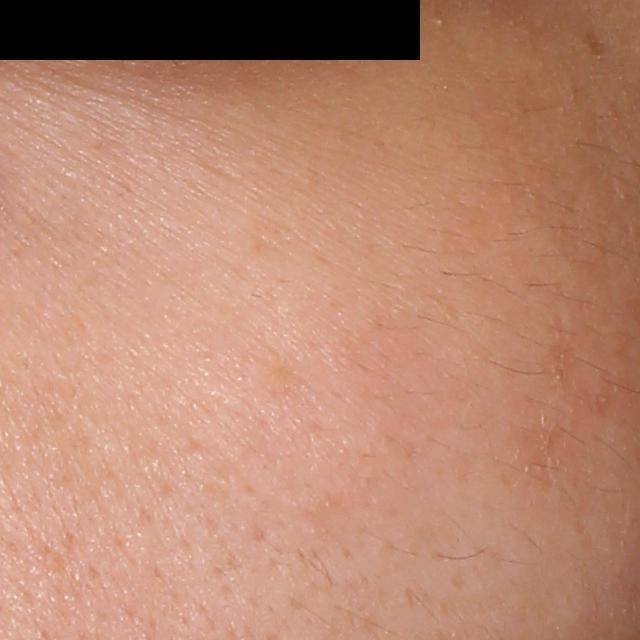melasma: (581, 28, 612, 58)
